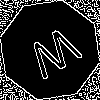W: (25, 25, 89, 89)
